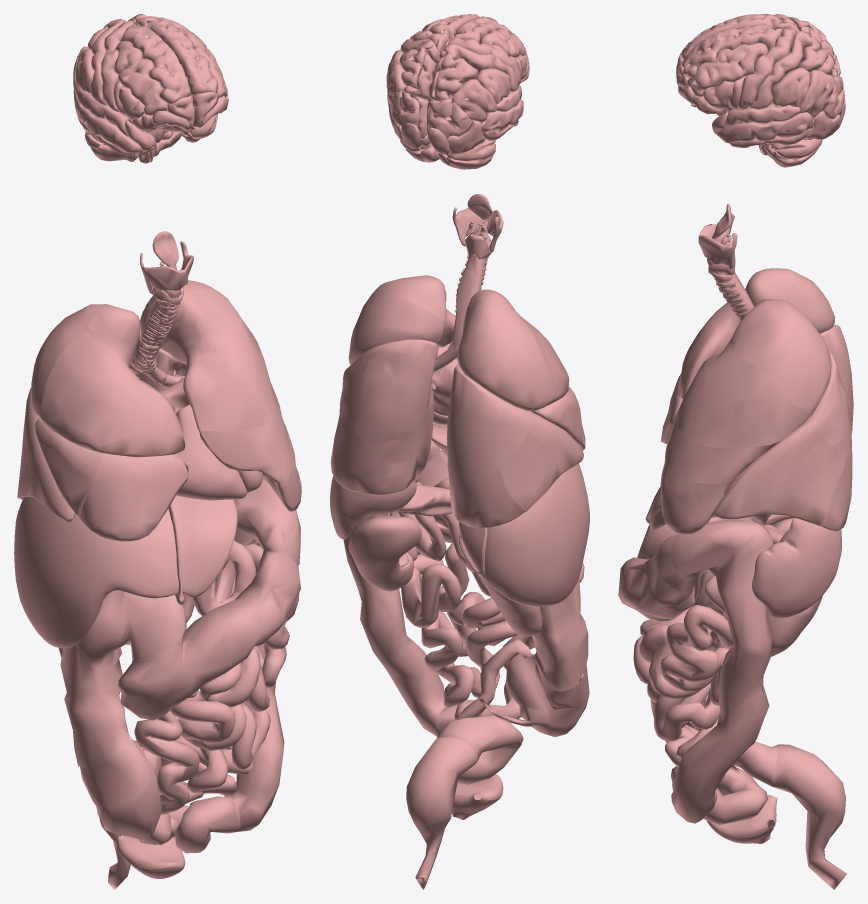
Rendered from organs.glb.
3 views of the same model, side by side, from view 1: azimuth 30°, elevation 25°; view 2: azimuth 150°, elevation 25°; view 3: azimuth 270°, elevation 25° (orthographic). The views are drawn at different scales.
Visible parts, largest first — view 1: VH_M_hilum_L, VH_M_ascending_colon, VH_M_bare_area_of_liver, Allen_olfactory_bulb_L, VH_M_ileum, VH_M_mitral_valve, VH_M_urinary_bladder_neck_smooth_muscle, VH_M_carina, VH_M_epiglottic_cartilage; view 2: VH_M_hilum_L, VH_M_ascending_colon, Allen_olfactory_bulb_L, VH_M_ileum, VH_M_bare_area_of_liver, VH_M_kidney_capsule_L, VH_M_colic_surface_of_spleen, VH_M_urinary_bladder_neck_smooth_muscle, VH_M_kidney_capsule_R, VH_M_body_of_pancreas, VH_M_mitral_valve, VH_M_epiglottic_cartilage; view 3: VH_M_hilum_L, VH_M_ascending_colon, Allen_olfactory_bulb_L, VH_M_ileum, VH_M_colic_surface_of_spleen, VH_M_urinary_bladder_neck_smooth_muscle, VH_M_kidney_capsule_L, VH_M_bare_area_of_liver, VH_M_carina.
Part boxes in pixels (box(x1,y1,x2,y2)): VH_M_hilum_L: box(17, 241, 301, 541); VH_M_ascending_colon: box(60, 479, 300, 889); VH_M_bare_area_of_liver: box(14, 495, 237, 648); Allen_olfactory_bulb_L: box(73, 14, 228, 163); VH_M_ileum: box(134, 541, 299, 814); VH_M_mitral_valve: box(158, 378, 262, 500); VH_M_urinary_bladder_neck_smooth_muscle: box(117, 835, 185, 878); VH_M_carina: box(130, 301, 180, 373); VH_M_epiglottic_cartilage: box(152, 231, 178, 269); VH_M_hilum_L: box(330, 207, 585, 528); VH_M_ascending_colon: box(343, 440, 589, 889); Allen_olfactory_bulb_L: box(386, 14, 529, 169); VH_M_ileum: box(388, 478, 534, 720); VH_M_bare_area_of_liver: box(431, 423, 589, 606); VH_M_kidney_capsule_L: box(348, 515, 421, 591); VH_M_colic_surface_of_spleen: box(330, 476, 416, 538); VH_M_urinary_bladder_neck_smooth_muscle: box(452, 774, 503, 819); VH_M_kidney_capsule_R: box(480, 575, 542, 636); VH_M_body_of_pancreas: box(397, 485, 452, 516); VH_M_mitral_valve: box(431, 343, 458, 424); VH_M_epiglottic_cartilage: box(466, 194, 491, 239); VH_M_hilum_L: box(660, 213, 853, 534); VH_M_ascending_colon: box(618, 517, 846, 889); Allen_olfactory_bulb_L: box(676, 14, 845, 167); VH_M_ileum: box(633, 517, 744, 766); VH_M_colic_surface_of_spleen: box(752, 517, 841, 617); VH_M_urinary_bladder_neck_smooth_muscle: box(706, 795, 777, 843); VH_M_kidney_capsule_L: box(767, 596, 822, 656); VH_M_bare_area_of_liver: box(645, 486, 793, 530); VH_M_carina: box(711, 273, 749, 320).
Size of the model in its own units: 0.2753 by 0.9414 by 0.2312.
